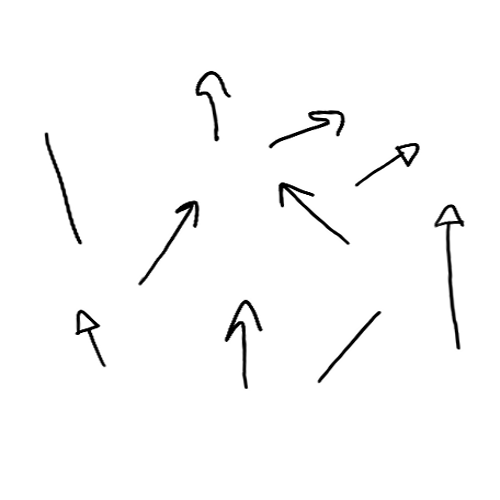arrow: (38, 130, 86, 248), (139, 196, 200, 284), (433, 200, 468, 351), (271, 183, 353, 245), (319, 311, 381, 379), (224, 293, 263, 393), (351, 140, 422, 184), (267, 109, 345, 147), (195, 66, 233, 142), (71, 309, 109, 369)
